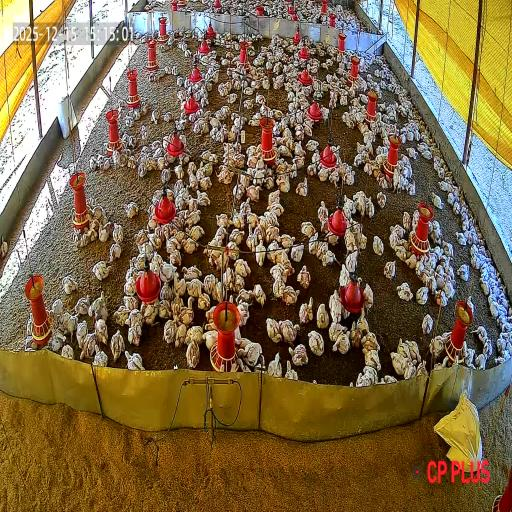chicken: (279, 318, 302, 341), (286, 342, 308, 366), (124, 348, 146, 370), (308, 331, 325, 358), (284, 356, 298, 384), (265, 318, 282, 340), (111, 330, 123, 360), (391, 351, 409, 371), (396, 282, 412, 304), (302, 295, 315, 322), (89, 296, 106, 316), (406, 336, 420, 360), (142, 303, 160, 321), (91, 262, 111, 278), (346, 222, 356, 254), (317, 301, 328, 330), (94, 345, 107, 369), (61, 276, 78, 294), (252, 285, 268, 304), (283, 255, 299, 274), (219, 165, 233, 186), (173, 292, 183, 320), (296, 176, 308, 199), (361, 368, 378, 384), (108, 239, 122, 258), (238, 348, 260, 360), (298, 265, 310, 287), (272, 346, 280, 378), (60, 346, 77, 361), (160, 265, 174, 283), (286, 285, 300, 303), (363, 347, 377, 365), (112, 306, 127, 322), (333, 286, 341, 316), (422, 314, 434, 334), (383, 262, 397, 279), (256, 239, 265, 265), (474, 324, 487, 342), (188, 339, 198, 362), (198, 284, 208, 307), (364, 286, 374, 309), (149, 234, 163, 250), (76, 296, 89, 313), (431, 336, 444, 353), (184, 297, 195, 317), (174, 274, 185, 294), (462, 342, 473, 362), (417, 284, 428, 304), (357, 230, 368, 250), (302, 219, 314, 237), (290, 245, 304, 260), (247, 185, 262, 199), (436, 288, 446, 309), (432, 195, 446, 210), (122, 204, 141, 215), (277, 177, 290, 193), (390, 224, 406, 237), (442, 240, 455, 256), (160, 300, 172, 317), (339, 268, 351, 285), (278, 234, 295, 246), (400, 336, 410, 356), (247, 208, 258, 226), (124, 294, 138, 308), (196, 192, 210, 206), (154, 154, 168, 168), (186, 327, 201, 340), (216, 211, 229, 226), (265, 211, 278, 226), (247, 226, 255, 250), (339, 336, 351, 352), (274, 267, 290, 279), (268, 225, 280, 241), (186, 228, 202, 240), (185, 196, 197, 212), (214, 282, 224, 301), (374, 235, 384, 254), (364, 196, 374, 215), (132, 324, 141, 345), (113, 222, 122, 243), (236, 291, 253, 302), (320, 200, 328, 223), (186, 280, 199, 294), (182, 239, 196, 252), (364, 337, 378, 350), (48, 322, 60, 337), (99, 224, 109, 242), (235, 261, 250, 273), (78, 322, 86, 344), (269, 242, 280, 258), (241, 197, 252, 213), (286, 162, 297, 178), (455, 230, 466, 246), (274, 278, 284, 295), (458, 264, 468, 281), (165, 222, 178, 235), (48, 302, 62, 314), (48, 338, 62, 350), (124, 281, 136, 295), (160, 282, 172, 296), (328, 232, 340, 246), (345, 200, 359, 212), (84, 336, 93, 354), (176, 324, 183, 347), (359, 310, 366, 333), (204, 274, 214, 290), (310, 234, 318, 254), (268, 202, 284, 212), (170, 248, 180, 264), (190, 173, 198, 193), (277, 160, 285, 180), (403, 210, 411, 230), (236, 359, 249, 371), (199, 177, 212, 189), (433, 359, 447, 370), (317, 168, 328, 182), (231, 206, 240, 223), (188, 212, 205, 221), (153, 248, 161, 267), (140, 125, 148, 144), (86, 211, 96, 226), (129, 110, 139, 125), (133, 310, 145, 322), (215, 362, 227, 374), (238, 306, 247, 322), (200, 146, 209, 162), (389, 228, 398, 244), (332, 170, 341, 186), (280, 146, 292, 158), (203, 333, 216, 344), (231, 229, 242, 242), (214, 107, 225, 120), (132, 254, 142, 268), (89, 206, 103, 216), (154, 227, 164, 241), (174, 166, 184, 180), (443, 254, 453, 268), (364, 162, 374, 176), (161, 132, 171, 146), (352, 322, 358, 345), (67, 319, 75, 336), (355, 194, 363, 211), (147, 156, 158, 168), (26, 339, 36, 352), (85, 227, 95, 240), (234, 184, 244, 197), (264, 176, 274, 189), (78, 230, 86, 246), (224, 269, 232, 285), (208, 248, 216, 264), (265, 163, 273, 179), (425, 254, 433, 270), (449, 279, 457, 295), (56, 315, 65, 329), (162, 169, 171, 183), (420, 360, 429, 374), (481, 342, 490, 356), (481, 277, 488, 295), (412, 214, 419, 232), (347, 254, 356, 268), (343, 208, 352, 222), (125, 113, 131, 134), (227, 246, 238, 257), (123, 133, 134, 144), (124, 315, 136, 325), (138, 242, 148, 254), (168, 322, 174, 342), (318, 241, 326, 256), (180, 150, 188, 165), (198, 160, 204, 180), (256, 171, 264, 186), (477, 356, 489, 366), (498, 314, 510, 324), (398, 245, 406, 260), (394, 170, 399, 194), (294, 156, 304, 168), (116, 110, 122, 130), (181, 269, 198, 276), (256, 221, 263, 238), (353, 154, 362, 167), (206, 309, 214, 323), (179, 208, 187, 222), (204, 163, 212, 177), (411, 358, 418, 374), (418, 256, 425, 272), (434, 228, 442, 242), (336, 159, 343, 175), (274, 120, 282, 134), (234, 337, 244, 348), (216, 255, 226, 266), (248, 169, 258, 180), (400, 238, 410, 249), (342, 162, 352, 173), (306, 164, 316, 175), (304, 125, 314, 136), (134, 234, 146, 243), (228, 365, 240, 374), (215, 228, 224, 240), (240, 171, 249, 183), (497, 338, 506, 350), (437, 274, 446, 286), (471, 233, 480, 245), (306, 141, 318, 150), (152, 106, 158, 124), (286, 100, 295, 112), (271, 77, 283, 86), (268, 193, 283, 200), (188, 162, 196, 175), (434, 246, 442, 259), (378, 191, 386, 204), (96, 150, 102, 167), (498, 306, 508, 316), (422, 272, 432, 282), (438, 181, 448, 191), (407, 148, 417, 158), (346, 173, 356, 183), (249, 117, 259, 127), (256, 66, 266, 76), (332, 321, 341, 332), (167, 240, 176, 251), (381, 146, 390, 157), (179, 134, 188, 145), (221, 104, 230, 115), (437, 262, 444, 276), (148, 204, 156, 216), (166, 188, 174, 200), (454, 200, 460, 216), (313, 151, 321, 163), (305, 116, 313, 128), (356, 141, 364, 153), (122, 142, 130, 154), (128, 157, 136, 169), (73, 227, 78, 246), (431, 273, 436, 292), (231, 280, 244, 287), (465, 231, 472, 244), (231, 111, 238, 124), (263, 77, 270, 90), (209, 238, 218, 248), (147, 220, 157, 229), (490, 278, 500, 287), (294, 146, 304, 155), (277, 135, 286, 145), (355, 111, 365, 120), (252, 82, 262, 91), (323, 256, 334, 264), (210, 155, 218, 166), (248, 157, 256, 168), (472, 255, 480, 266), (462, 220, 470, 231), (435, 146, 443, 157), (334, 144, 342, 155), (356, 80, 364, 91), (369, 131, 377, 142), (260, 104, 268, 115), (234, 158, 246, 165), (380, 376, 392, 383), (497, 299, 509, 306), (480, 266, 487, 278), (429, 252, 436, 264), (401, 154, 408, 166), (366, 139, 372, 153), (154, 149, 168, 155), (280, 119, 287, 131), (172, 34, 178, 48), (276, 34, 283, 46), (501, 332, 510, 341), (417, 143, 426, 152), (150, 265, 158, 275), (234, 327, 242, 337), (180, 188, 190, 196), (502, 322, 512, 330), (447, 266, 455, 276), (452, 188, 460, 198), (413, 130, 421, 140), (374, 146, 382, 156), (374, 155, 382, 165), (119, 154, 129, 162), (117, 90, 121, 110), (352, 105, 360, 115), (350, 98, 360, 106), (359, 102, 367, 112), (360, 94, 368, 104), (293, 109, 303, 117), (172, 26, 180, 36), (185, 28, 193, 38), (200, 57, 210, 65), (139, 163, 145, 176), (494, 357, 505, 364), (448, 193, 455, 204), (408, 182, 415, 193), (256, 92, 263, 103), (220, 55, 227, 66), (178, 195, 183, 210), (228, 292, 234, 304), (174, 220, 182, 229), (150, 195, 158, 204), (176, 179, 184, 188), (248, 146, 260, 152), (460, 213, 468, 222), (140, 107, 148, 116), (165, 112, 171, 124), (180, 117, 188, 126), (321, 62, 329, 71), (308, 63, 316, 72), (315, 90, 323, 99), (322, 82, 330, 91), (286, 91, 294, 100), (272, 112, 284, 118), (217, 133, 223, 145), (172, 64, 178, 76), (184, 76, 190, 88), (211, 73, 220, 81), (224, 156, 234, 163), (359, 124, 366, 134), (364, 129, 369, 143), (90, 158, 97, 168), (330, 79, 337, 89), (327, 74, 334, 84), (234, 78, 241, 88), (181, 28, 186, 42), (260, 214, 264, 231), (506, 341, 512, 352), (469, 216, 475, 227), (403, 168, 409, 179), (284, 127, 290, 138), (194, 123, 200, 134), (333, 72, 339, 83), (222, 125, 228, 136), (113, 151, 118, 164), (178, 75, 183, 88), (155, 188, 163, 196), (494, 302, 498, 318), (296, 131, 304, 139), (328, 99, 336, 107), (340, 97, 348, 105), (358, 78, 366, 86), (245, 100, 253, 108), (294, 68, 302, 76), (252, 34, 260, 42), (480, 254, 489, 261), (287, 138, 294, 147), (201, 126, 208, 135), (27, 312, 33, 322), (222, 142, 232, 148), (455, 354, 460, 366), (490, 292, 496, 302), (472, 245, 478, 255), (479, 246, 489, 252), (434, 161, 440, 171), (400, 173, 404, 188), (330, 88, 336, 98), (341, 50, 346, 62), (372, 121, 378, 131), (383, 113, 389, 123), (388, 83, 394, 93), (391, 78, 397, 88), (312, 74, 318, 84), (284, 83, 294, 89), (220, 86, 226, 96), (197, 108, 203, 118), (190, 112, 196, 122), (206, 81, 212, 91), (214, 62, 219, 74), (134, 271, 141, 279), (406, 260, 413, 268), (434, 222, 441, 230), (399, 135, 406, 143), (406, 134, 413, 142), (422, 136, 430, 143), (425, 138, 433, 145), (322, 106, 326, 120), (139, 145, 147, 152), (211, 120, 219, 127), (349, 106, 353, 120), (341, 88, 348, 96), (400, 109, 407, 117), (318, 50, 326, 57), (308, 74, 315, 82), (303, 86, 310, 94), (299, 101, 306, 109), (252, 112, 259, 120), (210, 130, 217, 138), (258, 70, 265, 78), (273, 66, 280, 74), (203, 89, 207, 103), (503, 350, 509, 359), (380, 102, 386, 111), (384, 138, 390, 147), (406, 99, 412, 108), (312, 83, 321, 89), (295, 92, 301, 101), (230, 126, 236, 135), (178, 91, 184, 100), (164, 65, 170, 74), (146, 32, 152, 41), (190, 84, 196, 93), (224, 150, 237, 154), (134, 109, 138, 122), (161, 68, 165, 81), (487, 271, 497, 276), (439, 168, 444, 178), (408, 166, 413, 176), (294, 126, 304, 131), (142, 98, 147, 108), (244, 87, 254, 92), (267, 60, 272, 70), (360, 378, 367, 385), (445, 177, 452, 184), (297, 116, 304, 123), (342, 113, 349, 120), (194, 93, 201, 100), (129, 260, 132, 276), (499, 292, 505, 300), (428, 222, 432, 234), (471, 226, 477, 234), (462, 206, 468, 214), (423, 153, 431, 159), (399, 158, 403, 170), (140, 153, 146, 161), (149, 144, 161, 148), (339, 78, 347, 84), (350, 82, 354, 94), (339, 60, 345, 68), (345, 69, 351, 77), (385, 106, 391, 114), (375, 69, 381, 77), (290, 116, 294, 128), (272, 109, 278, 117), (226, 96, 234, 102), (225, 83, 231, 91), (167, 36, 173, 44), (208, 62, 216, 68), (294, 142, 303, 147), (376, 112, 381, 121), (381, 119, 386, 128), (326, 56, 331, 65), (232, 55, 237, 64), (241, 132, 245, 143), (312, 379, 318, 386), (348, 120, 354, 127), (390, 122, 397, 128), (294, 83, 300, 90), (241, 80, 247, 87), (184, 49, 190, 56), (181, 43, 187, 50), (140, 37, 146, 44), (208, 53, 215, 59), (261, 46, 268, 52), (223, 31, 229, 38), (231, 35, 238, 41), (446, 286, 450, 296), (177, 122, 182, 130), (337, 51, 341, 61), (382, 129, 386, 139), (381, 81, 386, 89), (408, 115, 412, 125), (414, 106, 418, 116), (363, 64, 368, 72), (311, 59, 321, 63), (217, 82, 222, 90), (287, 62, 292, 70), (148, 73, 153, 81), (154, 74, 159, 82), (199, 100, 204, 108), (185, 90, 189, 100), (198, 81, 203, 89), (489, 265, 495, 271), (338, 68, 344, 74), (378, 91, 382, 100), (389, 128, 395, 134), (402, 90, 408, 96), (414, 117, 418, 126), (285, 112, 289, 121), (232, 69, 236, 78), (226, 52, 232, 58), (258, 54, 264, 60), (178, 41, 182, 50), (206, 70, 210, 79), (258, 34, 264, 40), (310, 45, 314, 54), (448, 185, 453, 192), (347, 62, 352, 69), (331, 55, 336, 62), (270, 38, 275, 45), (444, 164, 448, 172), (373, 81, 377, 89), (390, 111, 394, 119), (359, 65, 363, 73), (386, 68, 390, 76), (330, 48, 338, 52), (205, 112, 209, 120), (234, 42, 238, 50), (283, 64, 287, 72), (180, 101, 184, 109), (284, 39, 288, 47), (292, 43, 296, 51), (260, 158, 263, 168), (367, 74, 372, 80), (378, 60, 383, 66), (290, 77, 296, 82), (134, 33, 139, 39), (358, 72, 362, 79), (419, 118, 423, 125), (376, 84, 379, 93), (268, 108, 271, 117), (229, 71, 234, 76), (446, 172, 452, 176), (432, 145, 436, 151), (421, 133, 427, 137), (402, 128, 406, 134), (355, 82, 358, 90), (368, 81, 371, 89), (390, 104, 394, 110), (399, 94, 402, 102), (400, 98, 404, 104), (403, 102, 407, 108), (408, 110, 411, 118), (381, 70, 384, 78), (347, 56, 351, 62), (330, 50, 334, 56), (252, 69, 255, 77), (255, 60, 259, 66), (226, 41, 230, 47), (441, 159, 444, 166), (396, 88, 400, 93), (376, 56, 381, 60), (294, 61, 298, 66), (250, 49, 254, 54), (220, 40, 224, 45), (214, 38, 218, 43), (102, 166, 111, 168), (231, 44, 234, 50), (434, 157, 438, 161), (398, 85, 402, 89), (271, 34, 275, 38), (436, 153, 441, 156), (395, 101, 397, 108), (371, 58, 373, 65), (423, 126, 426, 130), (348, 51, 351, 55), (351, 52, 354, 56), (367, 57, 371, 60), (286, 74, 292, 76), (278, 61, 280, 67), (218, 32, 222, 35), (383, 65, 385, 70), (238, 35, 241, 38), (400, 106, 402, 108), (398, 128, 398, 136)
